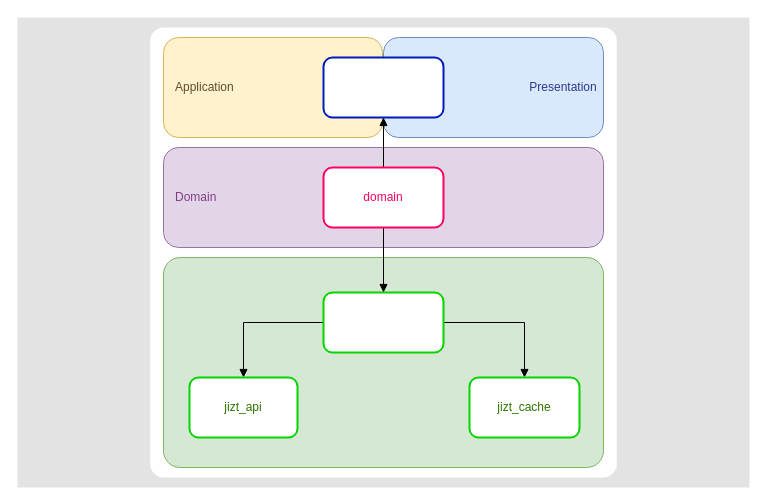
This 766x504 diagram has some shape labels left out. The box of each missing label's shape, as (x1, y1, x2, y2) in pixels:
Data: (162, 256, 604, 468)
jizt_repository: (322, 291, 444, 353)
lib (main): (322, 56, 444, 118)
